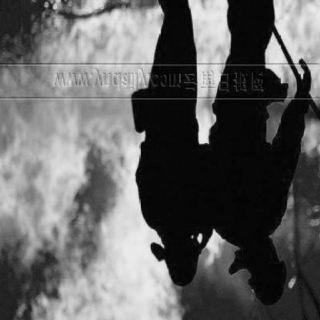Fire: (2, 6, 134, 319), (191, 2, 227, 146), (270, 6, 318, 102), (125, 243, 179, 319), (297, 115, 319, 167), (205, 230, 223, 272)
